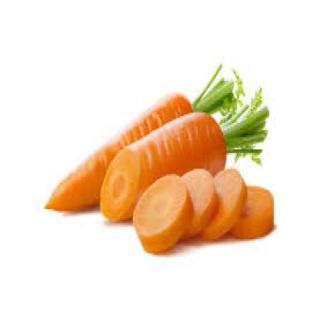Wortel: (101, 110, 235, 223)
